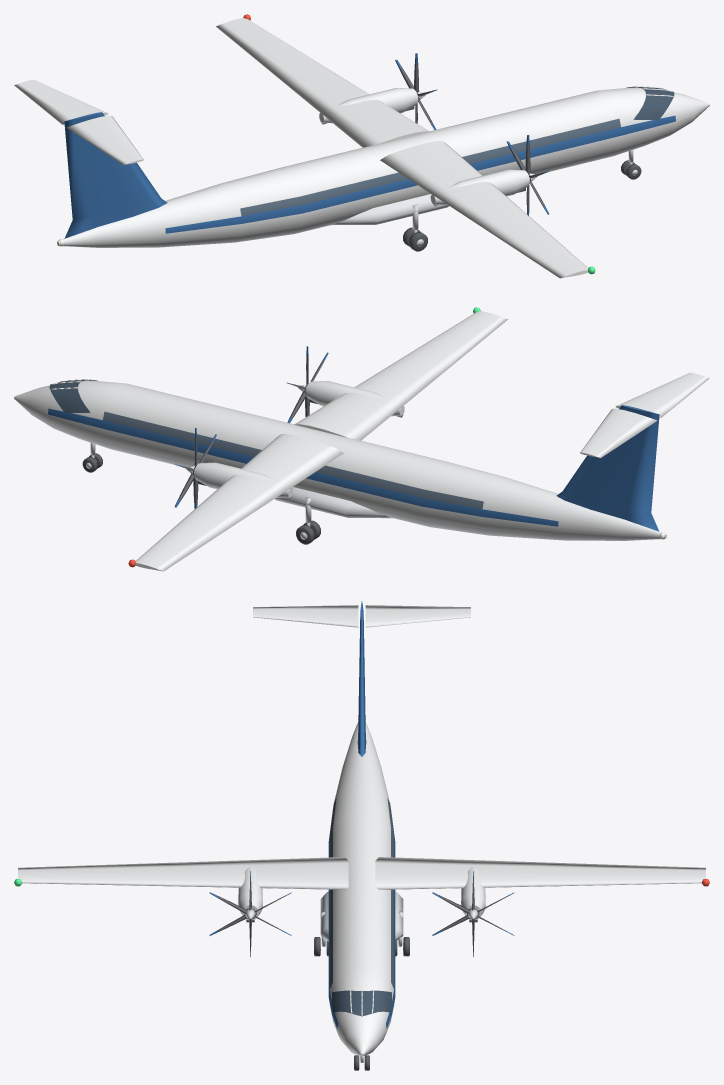
The model's file is turboprop.glb.
3 renders of one model, top to bottom at view 1: azimuth 30°, elevation 25°; view 2: azimuth 150°, elevation 25°; view 3: azimuth 270°, elevation 25°, orthographic.
Visible parts, largest first — view 1: BodyMesh, Gear, PropRight, PropLeft; view 2: BodyMesh, Gear, PropLeft, PropRight; view 3: BodyMesh, Gear.
Boxes of the visible parts, box(x1,y1,x2,y2) form: BodyMesh: box(14, 14, 709, 278); Gear: box(403, 150, 641, 251); PropRight: box(507, 135, 548, 215); PropLeft: box(395, 53, 437, 129); BodyMesh: box(14, 307, 709, 571); Gear: box(82, 443, 320, 544); PropLeft: box(174, 428, 216, 508); PropRight: box(286, 346, 328, 423); BodyMesh: box(14, 601, 709, 1055); Gear: box(314, 911, 409, 1070).
Bounding box in the file's own units: 31.01 × 8.82 × 28.74.
